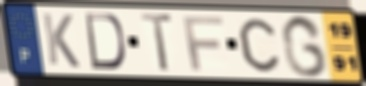C: (236, 16, 282, 74)
D: (83, 11, 128, 72)
F: (180, 15, 226, 73)
G: (279, 13, 330, 79)
K: (40, 11, 82, 70)
T: (139, 12, 175, 74)
